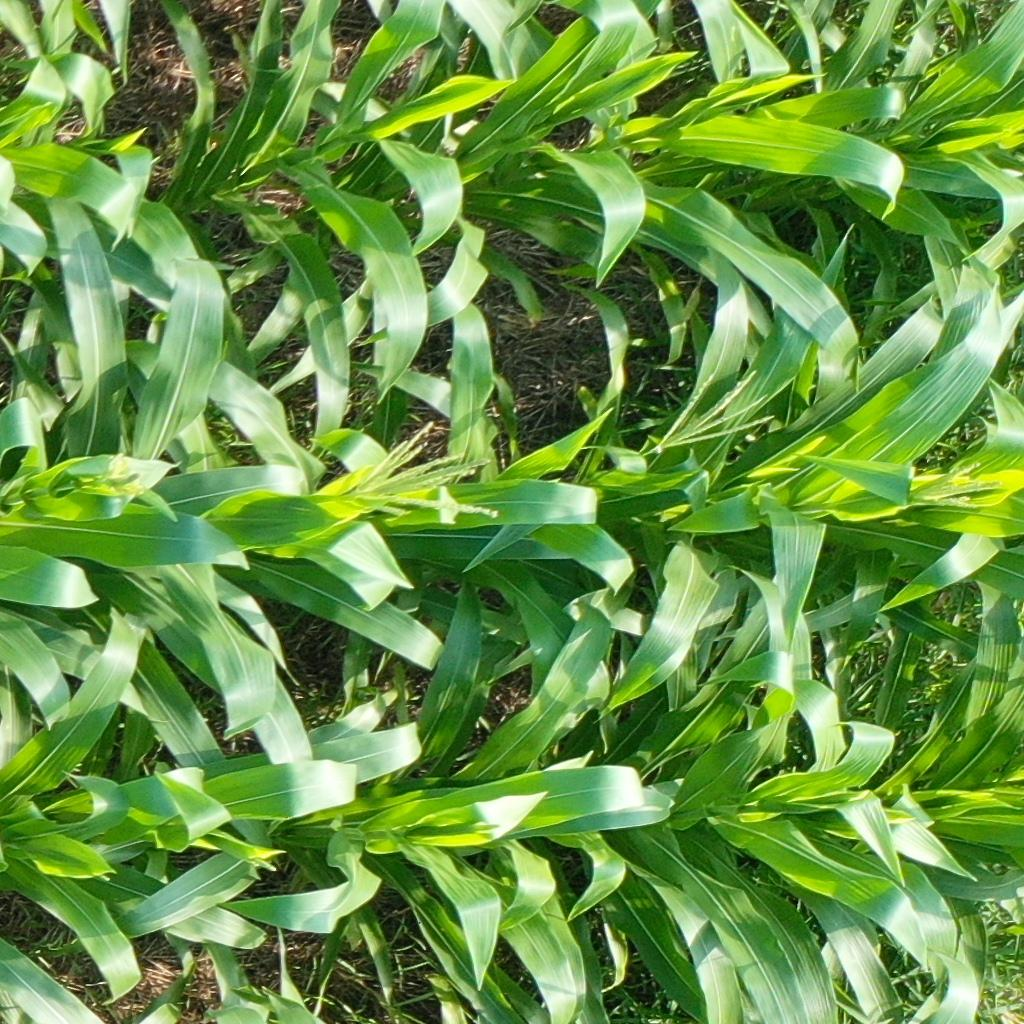Tassel: (333, 417, 503, 526), (654, 367, 778, 453), (897, 454, 1005, 512), (75, 452, 147, 500), (244, 855, 281, 876)
